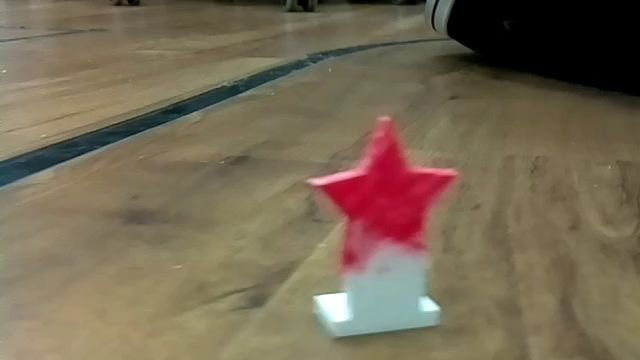star: (287, 103, 478, 346)
